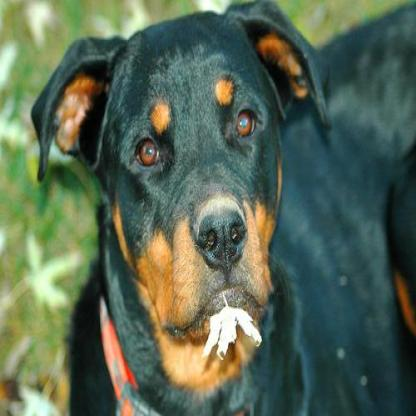Rottweiler: (29, 0, 414, 414)
